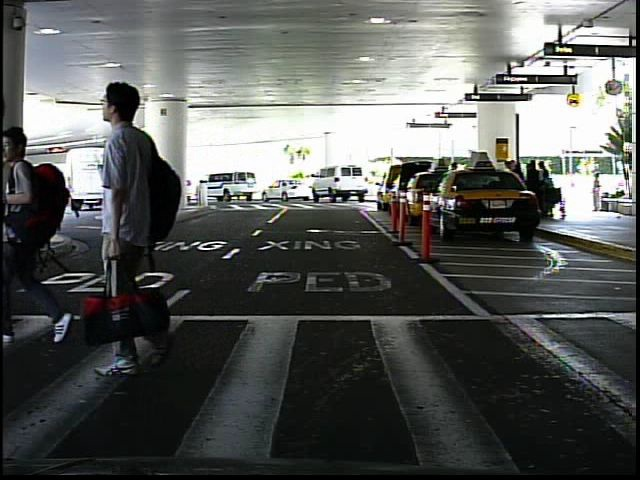person: (85, 70, 195, 387), (5, 113, 78, 351), (51, 171, 70, 221), (588, 170, 607, 216)
